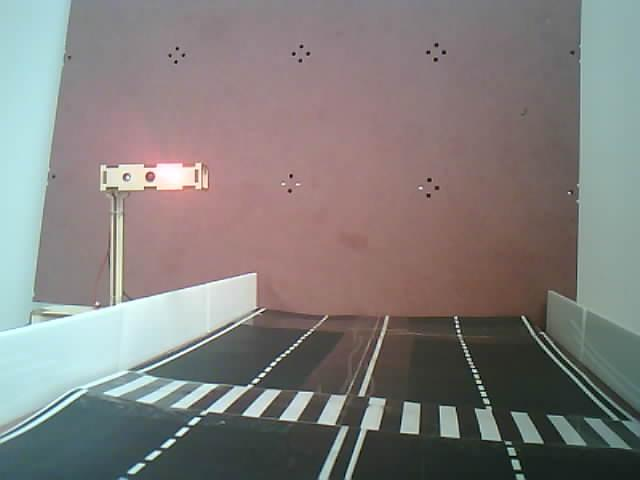crosswalk: (67, 361, 640, 454)
red: (93, 151, 237, 308)
